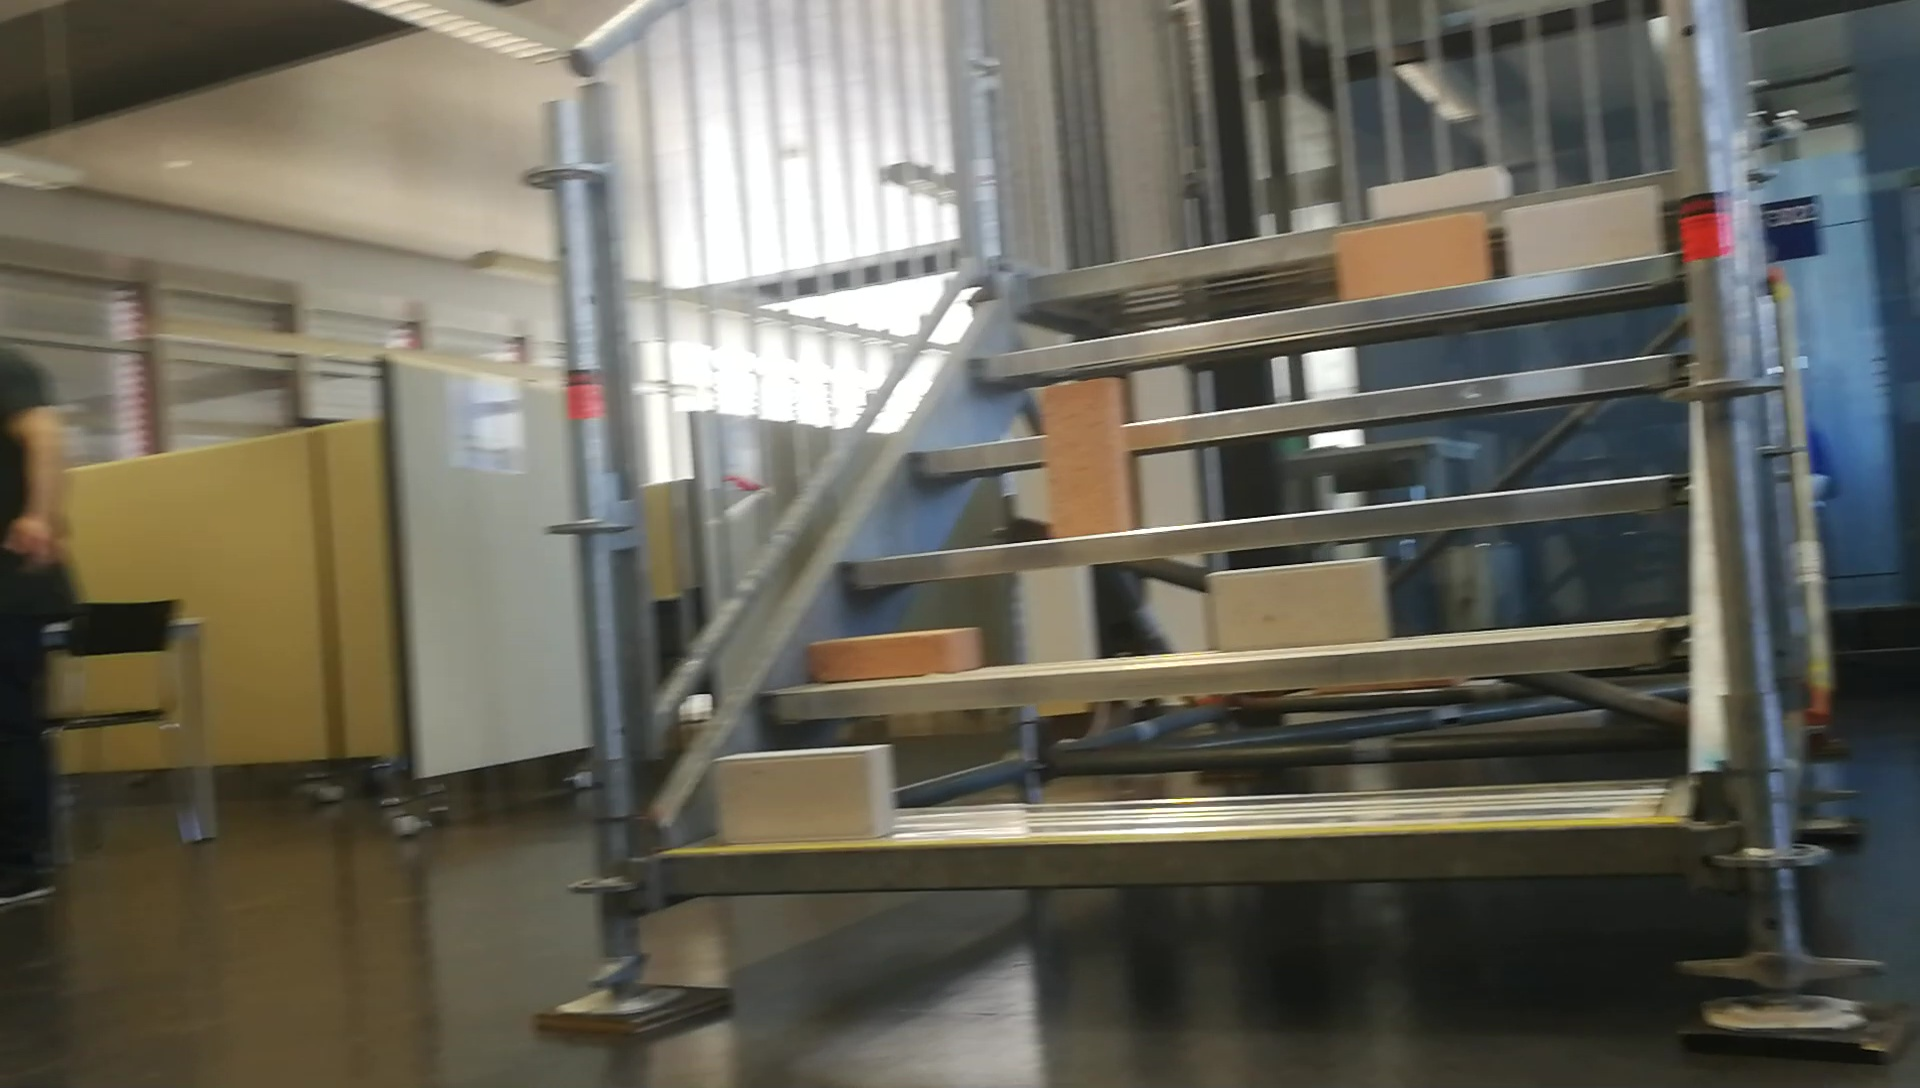brick: (717, 742, 891, 843), (1212, 557, 1382, 653), (1040, 382, 1127, 539), (1505, 187, 1655, 274), (1337, 212, 1482, 295), (804, 628, 977, 680), (1370, 164, 1505, 215)
edge: (913, 351, 1688, 480), (843, 469, 1696, 586), (975, 249, 1683, 378), (761, 625, 1691, 715), (655, 818, 1688, 892)
stairs: (514, 3, 1803, 1056)
steps: (645, 153, 1700, 915)
